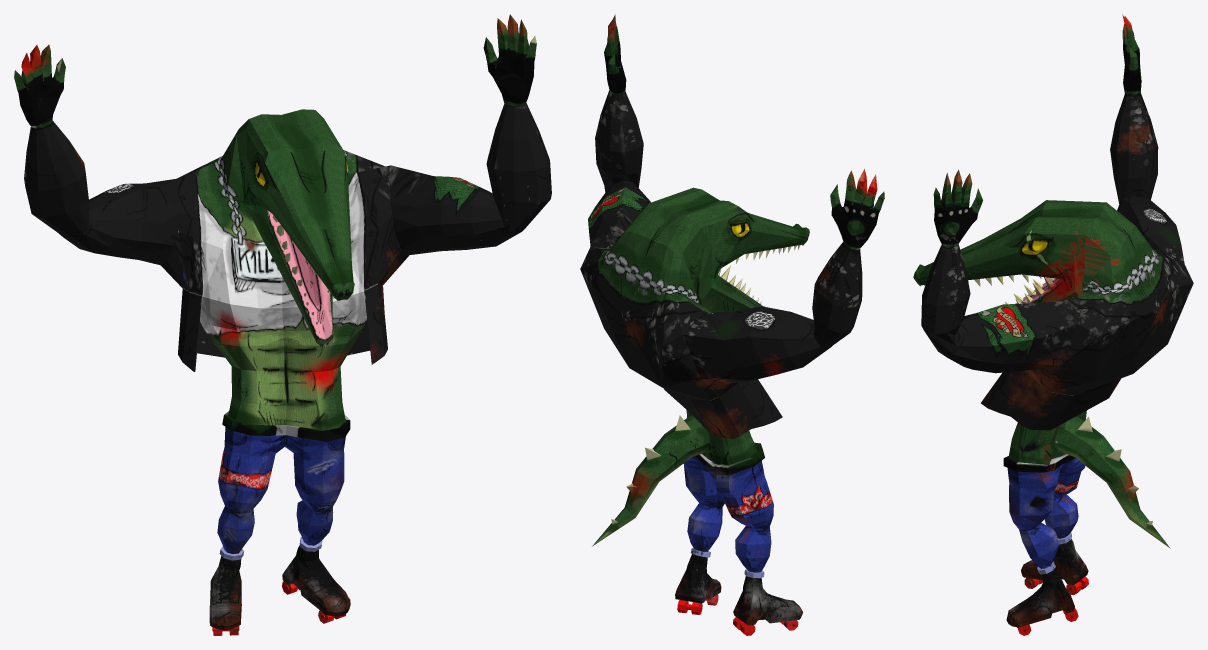
The model's file is cocodrilaBonesSelect_000050.obj.
3 renders of one model, left to right at view 1: azimuth 30°, elevation 25°; view 2: azimuth 150°, elevation 25°; view 3: azimuth 270°, elevation 25°, orthographic. The views are drawn at different scales.
Visible parts, largest first — view 1: Crocodile.002_Cylinder.002; view 2: Crocodile.002_Cylinder.002; view 3: Crocodile.002_Cylinder.002.
Boxes of the visible parts, x1,y1,x2,y2 form: Crocodile.002_Cylinder.002: [14, 14, 551, 635]; Crocodile.002_Cylinder.002: [580, 14, 884, 635]; Crocodile.002_Cylinder.002: [913, 14, 1193, 635].
Size of the model in its own units: 6.13 by 8.17 by 3.98.
